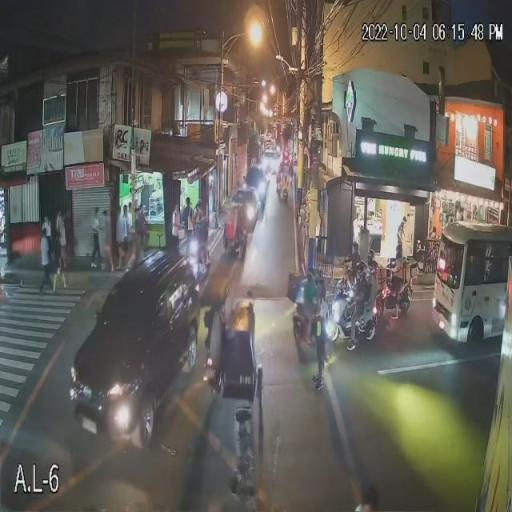helmet: (306, 268, 316, 284), (393, 245, 404, 259), (355, 262, 364, 278), (367, 252, 375, 266)
motorcycle: (333, 295, 380, 339), (292, 298, 318, 342), (384, 277, 410, 310)
rider: (354, 265, 365, 325), (392, 248, 402, 295), (305, 267, 316, 306), (367, 254, 378, 275)
